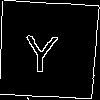Y: (23, 25, 60, 74)
